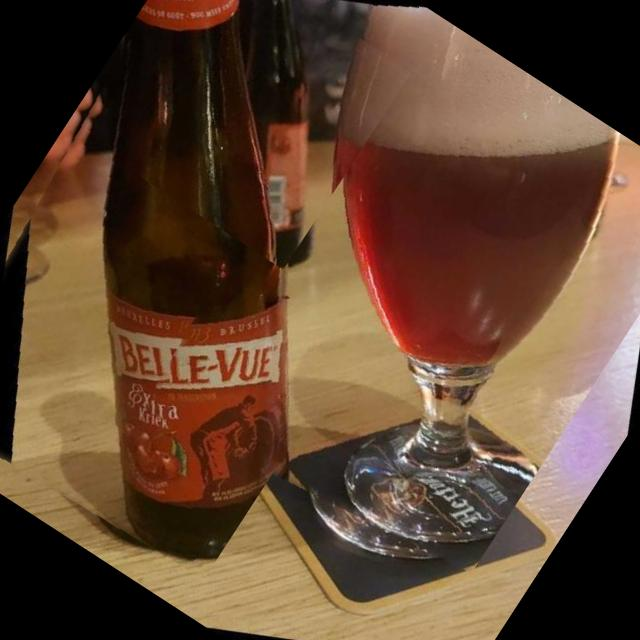Glass: (118, 0, 640, 607), (0, 0, 485, 589), (131, 0, 412, 270)
